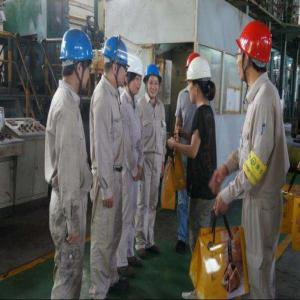blue: (60, 28, 94, 91), (103, 37, 128, 87), (145, 64, 161, 101)
red: (236, 20, 274, 82)
white: (188, 58, 215, 105), (125, 55, 144, 96)
